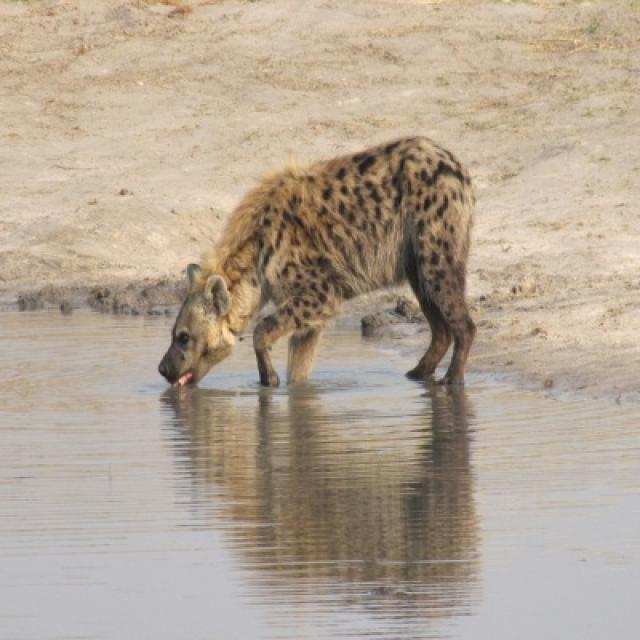hyena: (157, 136, 478, 389)
